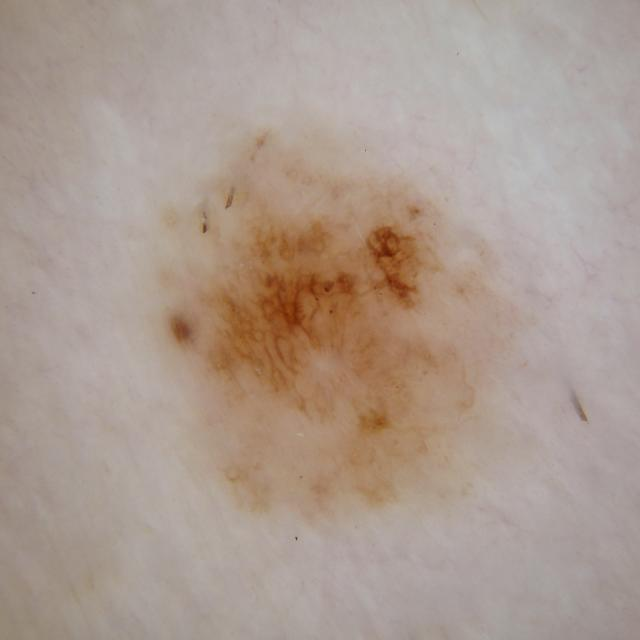Skin-Cancer Nevus: (87, 121, 591, 606)
